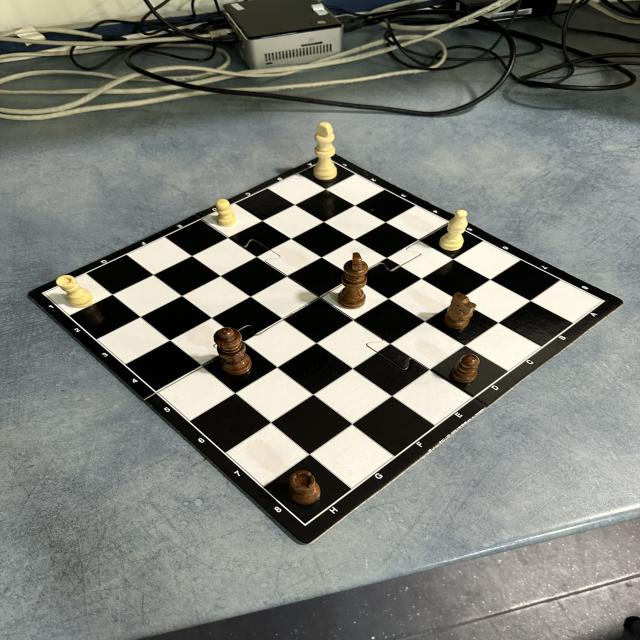Black-King: (338, 252, 369, 309)
Black-Knight: (444, 292, 477, 330)
Black-Pawn: (451, 353, 480, 383)
Black-Queen: (213, 327, 253, 375)
Black-Rook: (288, 470, 322, 505)
White-Bishop: (439, 210, 468, 251)
White-King: (313, 122, 338, 181)
White-Pawn: (215, 198, 238, 227)
White-Rook: (56, 275, 94, 308)
